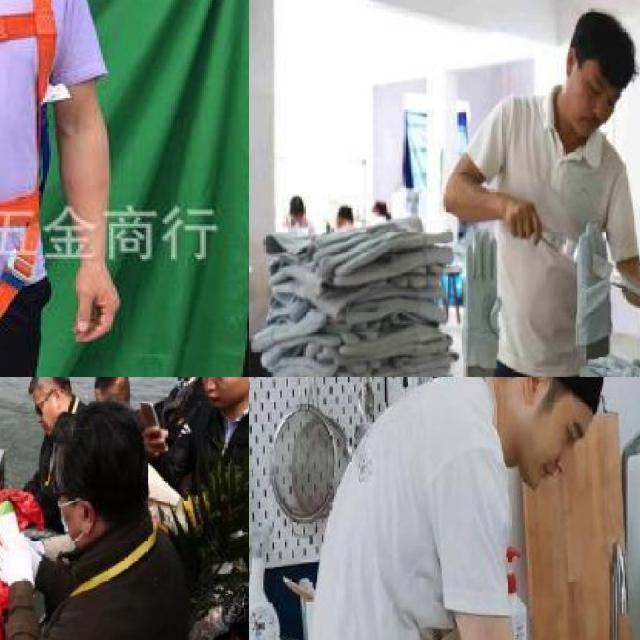Harness: (0, 0, 63, 344)
No_Ear-Protection: (519, 377, 550, 407)
No_Glasses: (552, 403, 588, 455)
face_nomask: (506, 396, 588, 492), (573, 71, 614, 137), (196, 377, 239, 412), (24, 394, 58, 432)
hand_glove: (0, 524, 36, 583)
hand_noglove: (503, 196, 542, 244), (144, 423, 168, 459)
head_nohelmet: (582, 5, 640, 85), (501, 377, 606, 407), (93, 377, 136, 403), (23, 377, 68, 392)
person: (283, 377, 634, 640), (442, 3, 640, 377), (0, 421, 170, 640), (193, 377, 249, 570), (136, 377, 213, 457)
